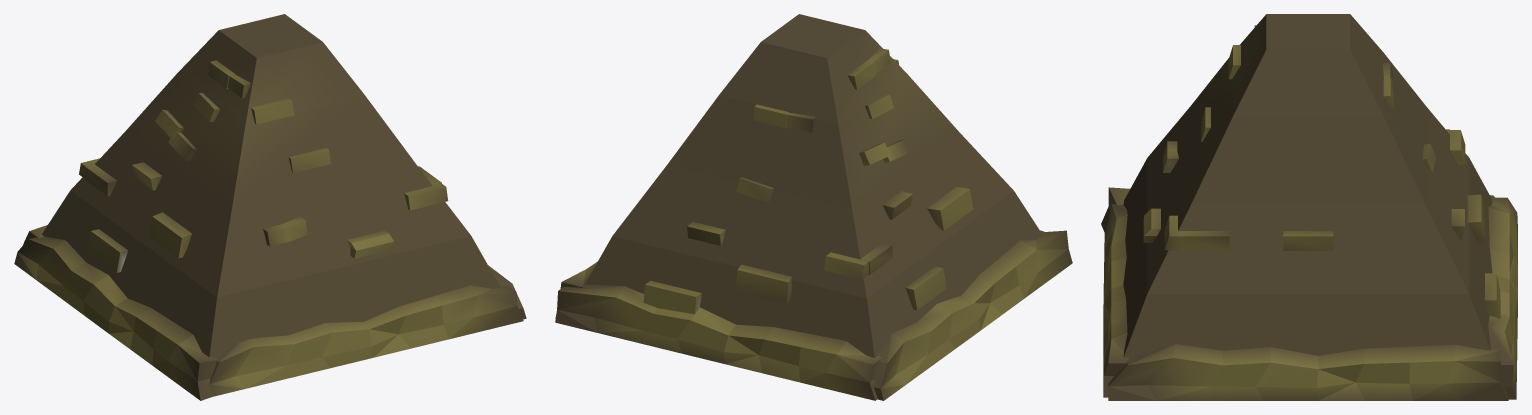
Rendered from PiramideA.fbx.
The picture shows the model from 3 angles, left to right: view 1: azimuth 30°, elevation 25°; view 2: azimuth 150°, elevation 25°; view 3: azimuth 270°, elevation 25°; orthographic projection. The views are drawn at different scales.
Visible parts, largest first — view 1: LOD_0; view 2: LOD_0; view 3: LOD_0.
Part boxes in pixels (left/top/right/bottom): LOD_0: left=14, top=14, right=526, bottom=400; LOD_0: left=555, top=14, right=1072, bottom=400; LOD_0: left=1101, top=14, right=1517, bottom=400.
Size of what is drawn, in the model's own units: 1684 by 1247 by 1677.
